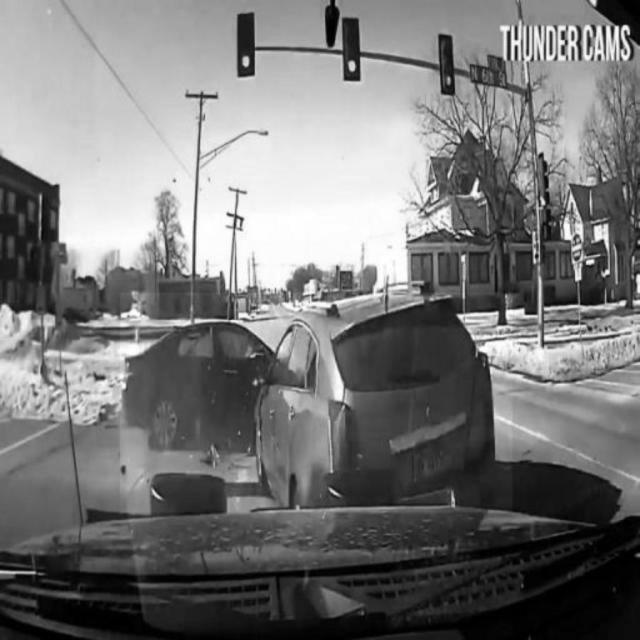accident: (121, 292, 513, 513)
